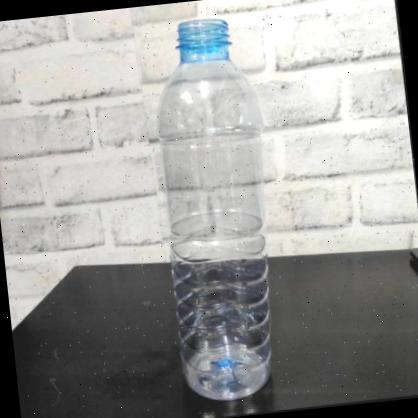bottle: (138, 13, 292, 408)
